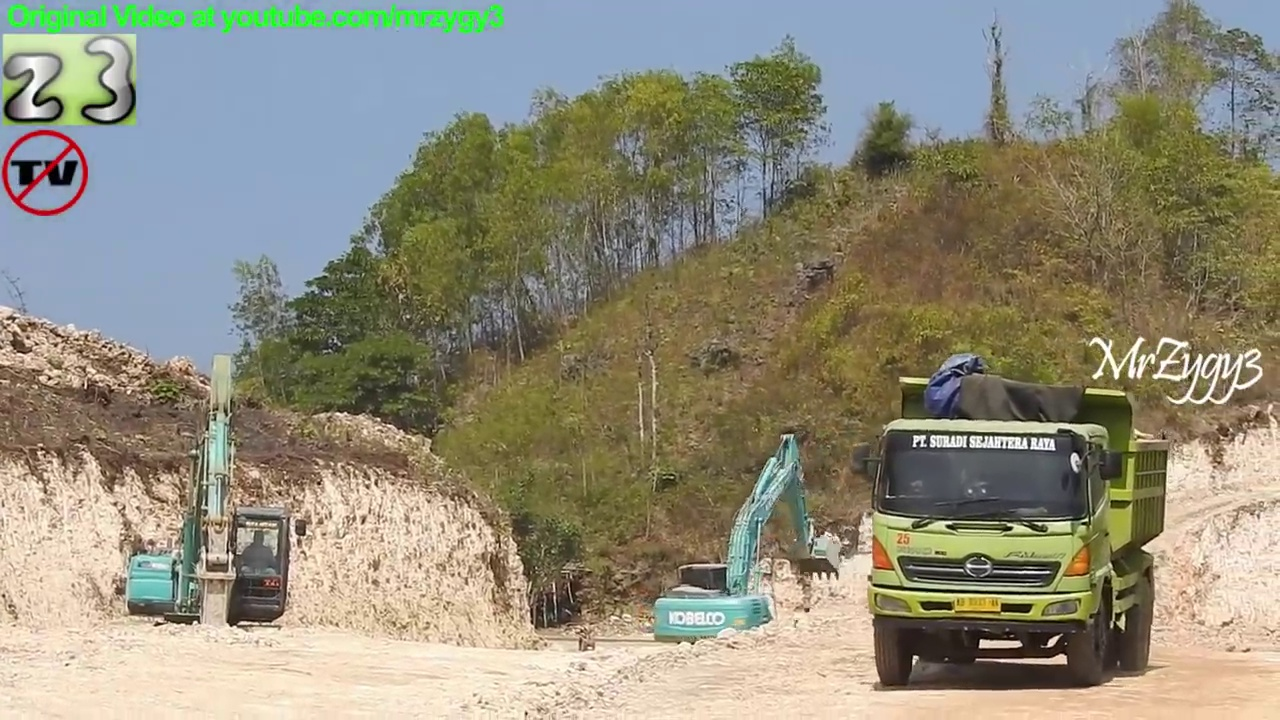excavator: (124, 351, 315, 672), (647, 427, 847, 678)
truck: (850, 369, 1175, 692)
